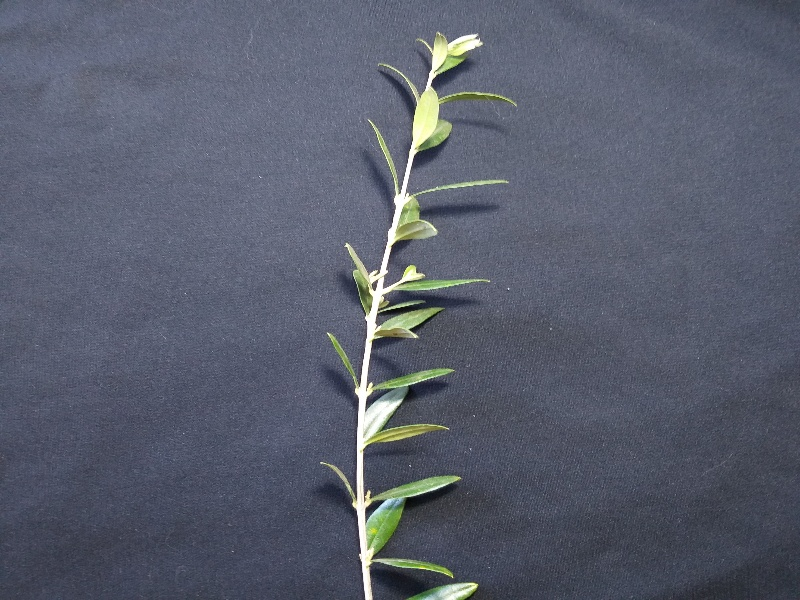yema: (343, 537, 390, 580), (341, 481, 384, 522), (345, 376, 384, 417), (401, 130, 436, 167), (351, 322, 388, 356), (357, 278, 399, 305), (386, 185, 419, 218), (418, 63, 460, 86), (380, 228, 412, 253)
